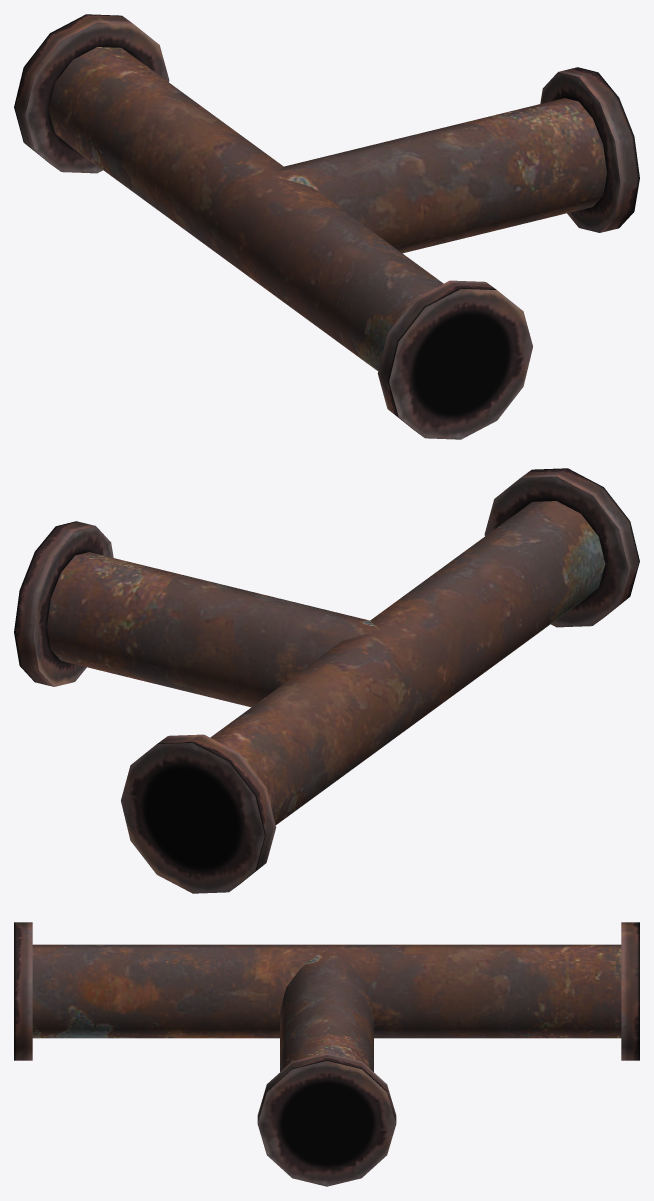
Rendered from pipe01_T.fbx.
3 views of the same model, one above another, from view 1: azimuth 30°, elevation 25°; view 2: azimuth 150°, elevation 25°; view 3: azimuth 270°, elevation 25° (orthographic). The views are drawn at different scales.
Parts seen in each view (by area): view 1: pipe01_T; view 2: pipe01_T; view 3: pipe01_T.
Boxes of the visible parts, left/top/right/bottom form: pipe01_T: left=14, top=14, right=639, bottom=439; pipe01_T: left=14, top=468, right=639, bottom=893; pipe01_T: left=14, top=922, right=639, bottom=1186.
Size of the model in its own units: 61.1 by 22.2 by 100.
